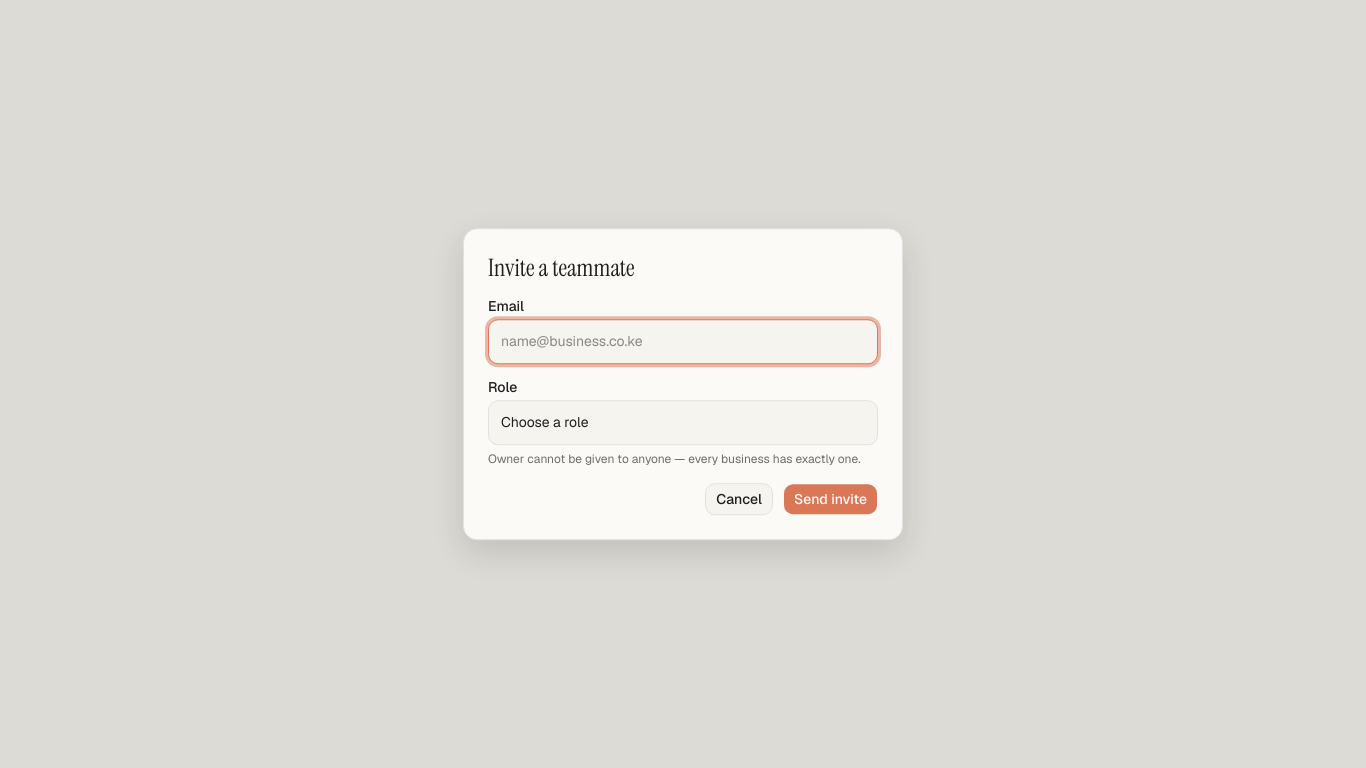
Test: InviteMemberDialog › shows a self-invite 409 verbatim
Type "me@spark.co.ke" into the field labelled "Email" at (683, 342), box [488,319,878,364]
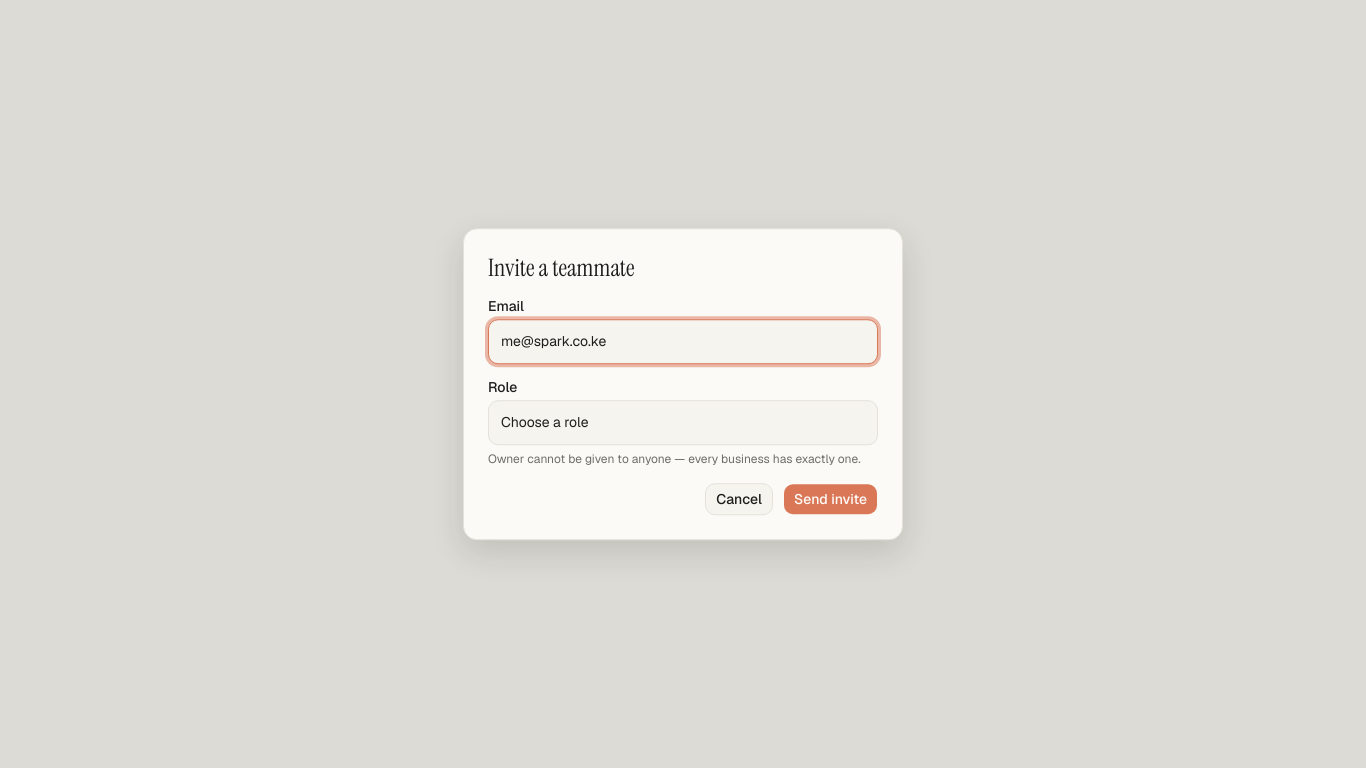
Select "Seller" in the dropdown labelled "Role" at (683, 422), box [488,400,878,445]
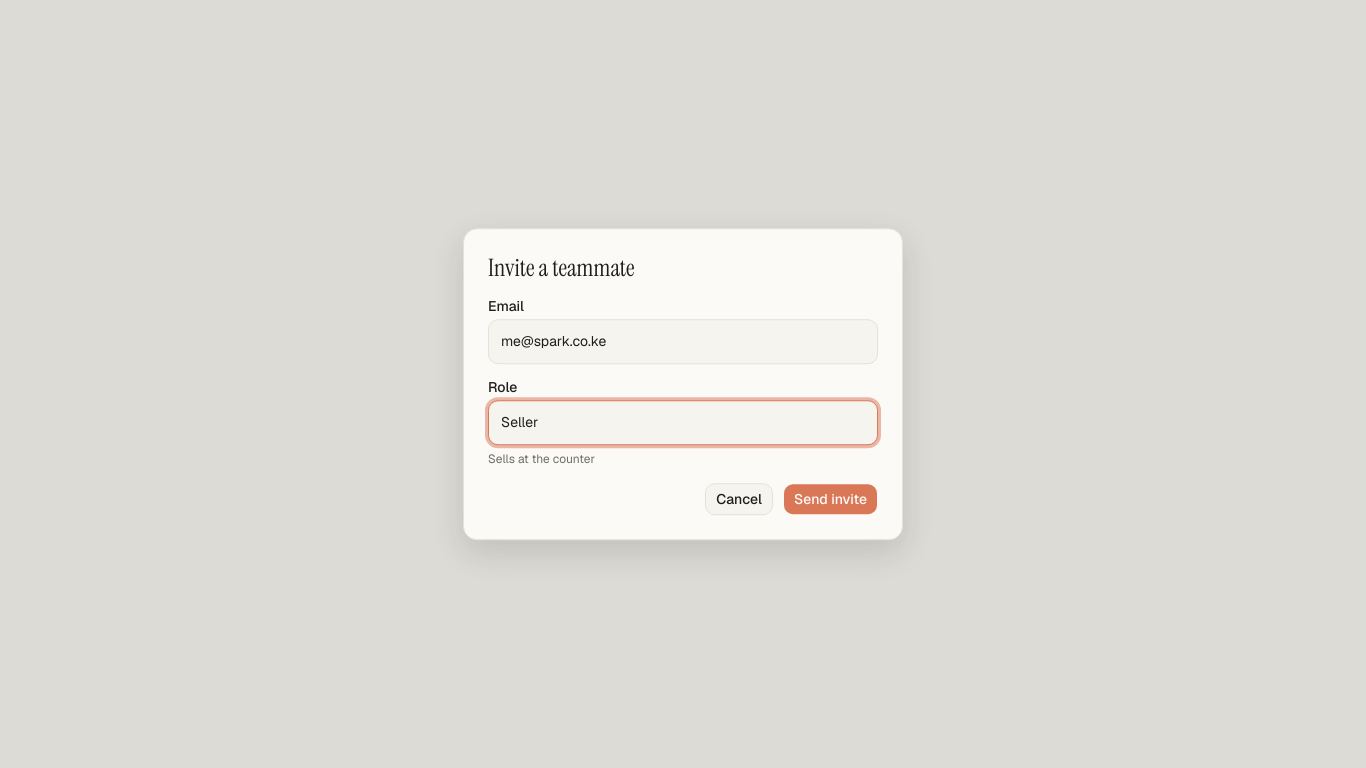
Click the button "Send invite" at (830, 499), box [783,483,878,515]
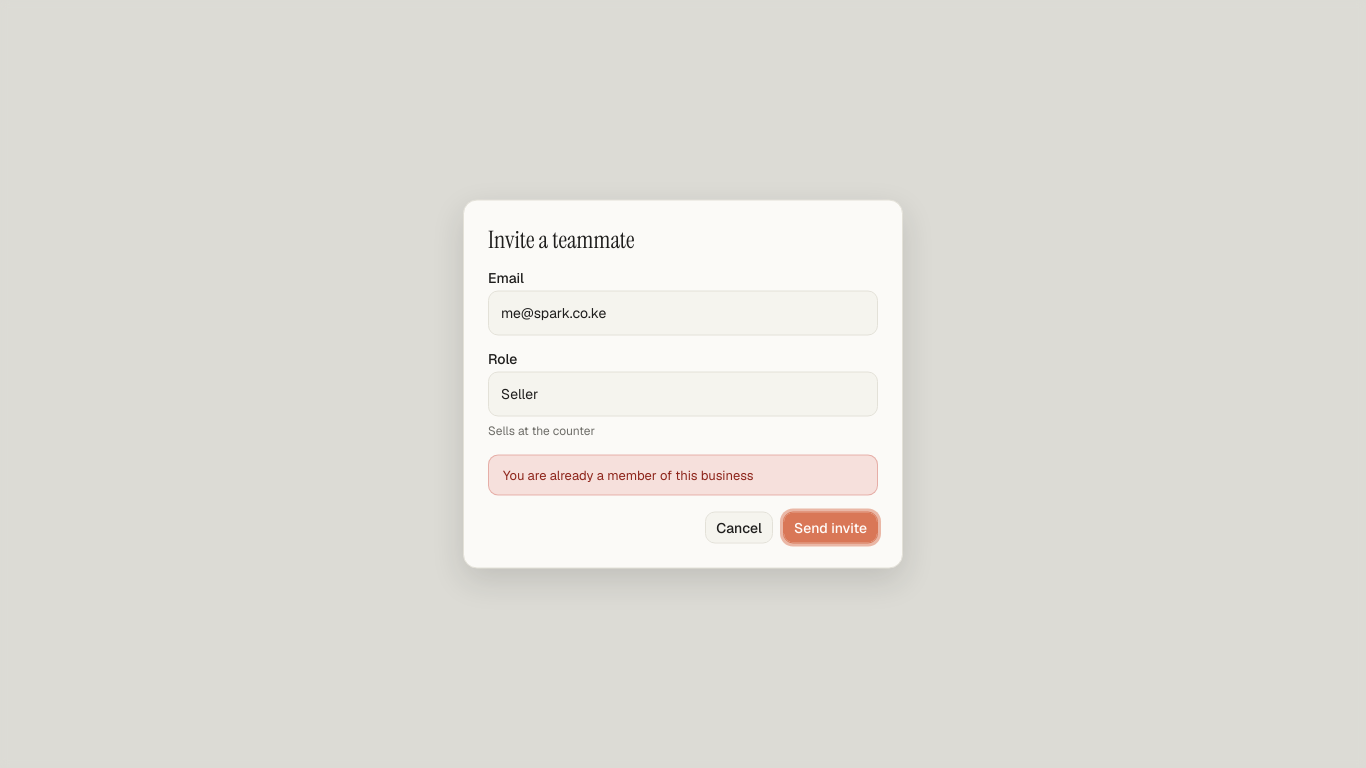
Expected: the text "You are already a member of this business" is shown, [488,454,878,496]
